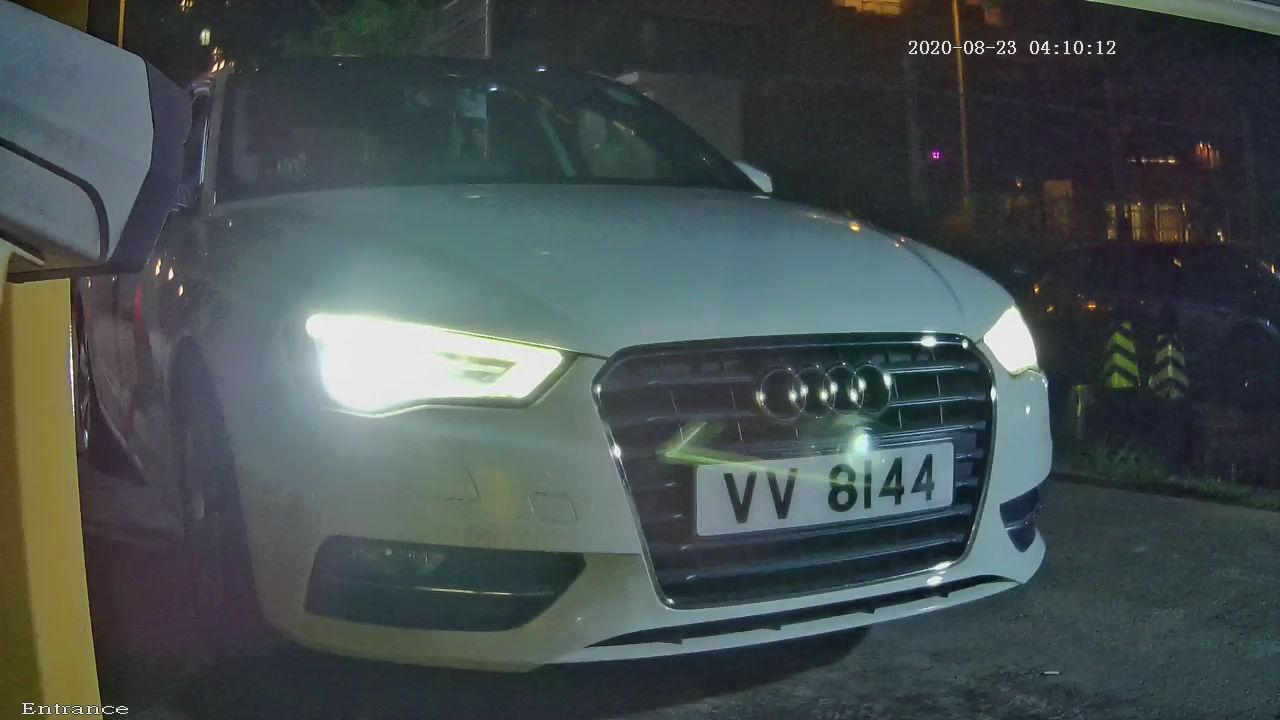Car: (41, 10, 1149, 695)
License Plate: (612, 392, 1006, 607)
